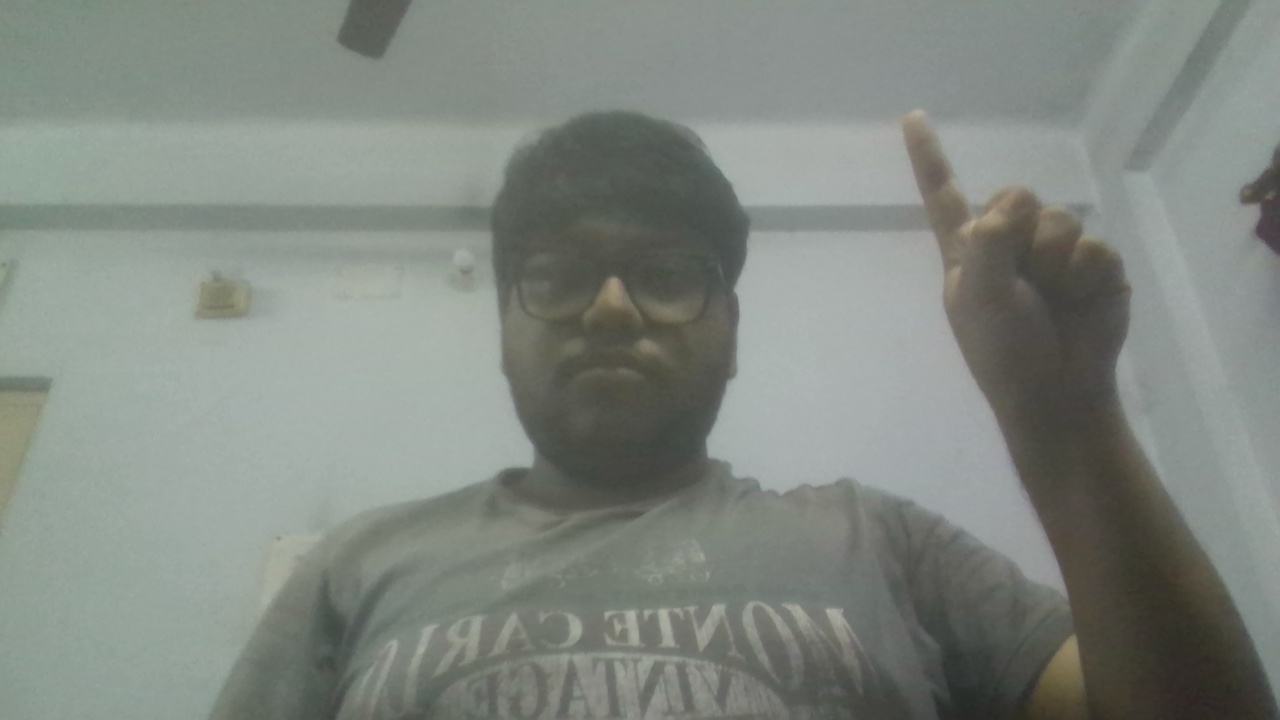Gesture1: (891, 94, 1157, 447)
